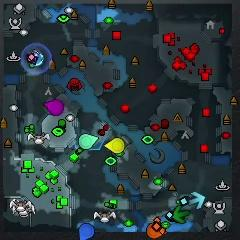Other: (31, 52, 44, 66)
p1: (78, 222, 96, 240)
p2: (79, 132, 100, 150)
p3: (45, 98, 64, 116)
p4: (105, 137, 125, 154)
p5: (146, 221, 165, 240)
x3: (185, 191, 205, 210)
x4: (171, 204, 191, 223)
